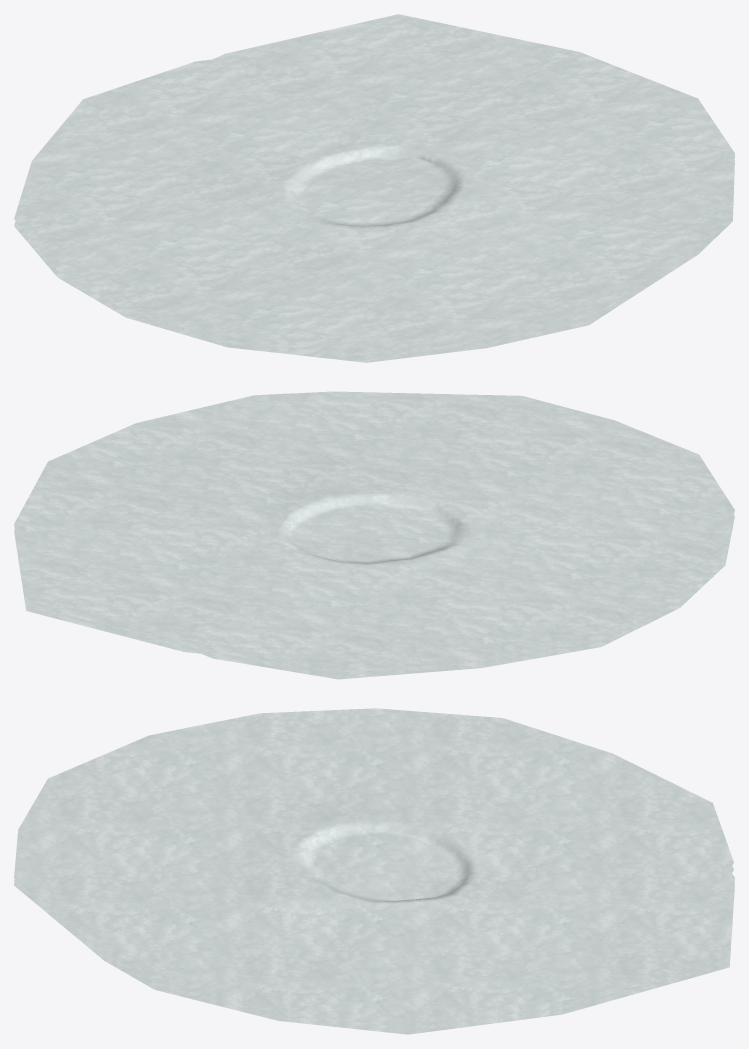
The model's file is CapClouds.dae.
3 views of the same model, one above another, from view 1: azimuth 30°, elevation 25°; view 2: azimuth 150°, elevation 25°; view 3: azimuth 270°, elevation 25° (orthographic). The views are drawn at different scales.
Visible parts, largest first — view 1: CapWorldHomeCloud000_002, CapWorldHomeCloud000_000; view 2: CapWorldHomeCloud000_002, CapWorldHomeCloud000_000; view 3: CapWorldHomeCloud000_002, CapWorldHomeCloud000_000.
Part boxes in pixels (x1,y1,x2,y2): CapWorldHomeCloud000_002: (14,14,734,355); CapWorldHomeCloud000_000: (14,160,734,362); CapWorldHomeCloud000_002: (14,391,734,672); CapWorldHomeCloud000_000: (14,515,734,679); CapWorldHomeCloud000_002: (14,708,734,1027); CapWorldHomeCloud000_000: (14,865,734,1034).
Size of the model in its own units: 2226 by 2125 by 47.43.
2 materials, 2 textured.
